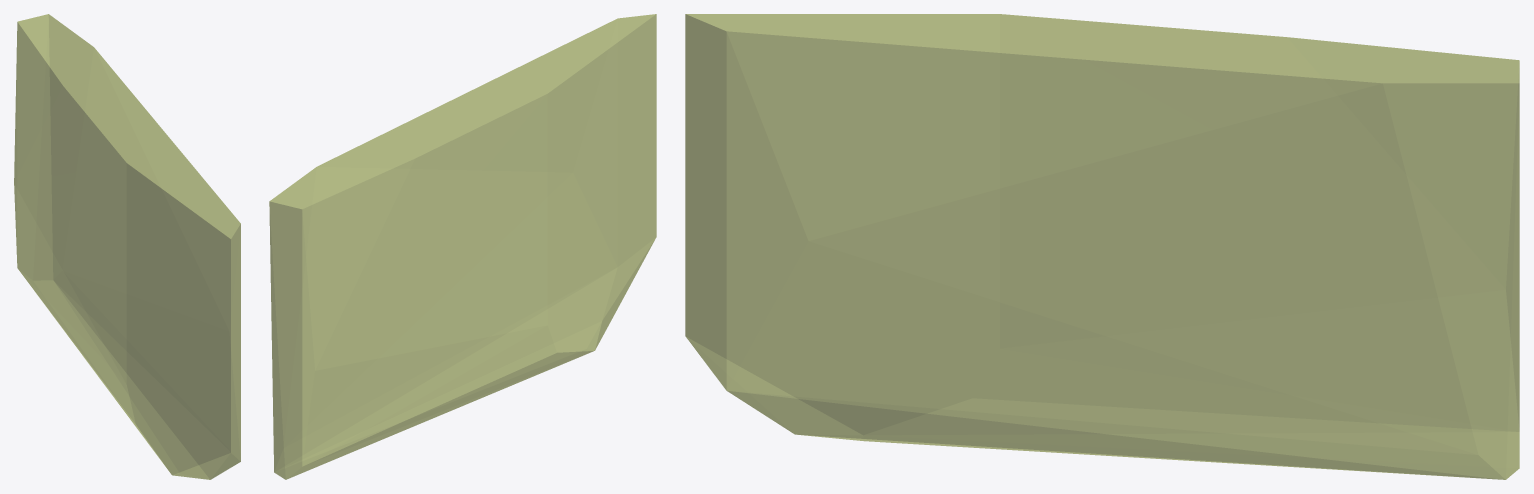
The picture shows the model from 3 angles, left to right: view 1: azimuth 30°, elevation 25°; view 2: azimuth 150°, elevation 25°; view 3: azimuth 270°, elevation 25°; orthographic projection. The views are drawn at different scales.
Visible parts, largest first — view 1: Shape_IndexedFaceSet.002_Shape_IndexedFaceSet.16404; view 2: Shape_IndexedFaceSet.002_Shape_IndexedFaceSet.16404; view 3: Shape_IndexedFaceSet.002_Shape_IndexedFaceSet.16404.
Part boxes in pixels (x1,y1,x2,y2): Shape_IndexedFaceSet.002_Shape_IndexedFaceSet.16404: (14,14,240,479); Shape_IndexedFaceSet.002_Shape_IndexedFaceSet.16404: (269,14,656,479); Shape_IndexedFaceSet.002_Shape_IndexedFaceSet.16404: (685,14,1519,479).
Size of the model in its own units: 0.00276 by 0.00781 by 0.014.
